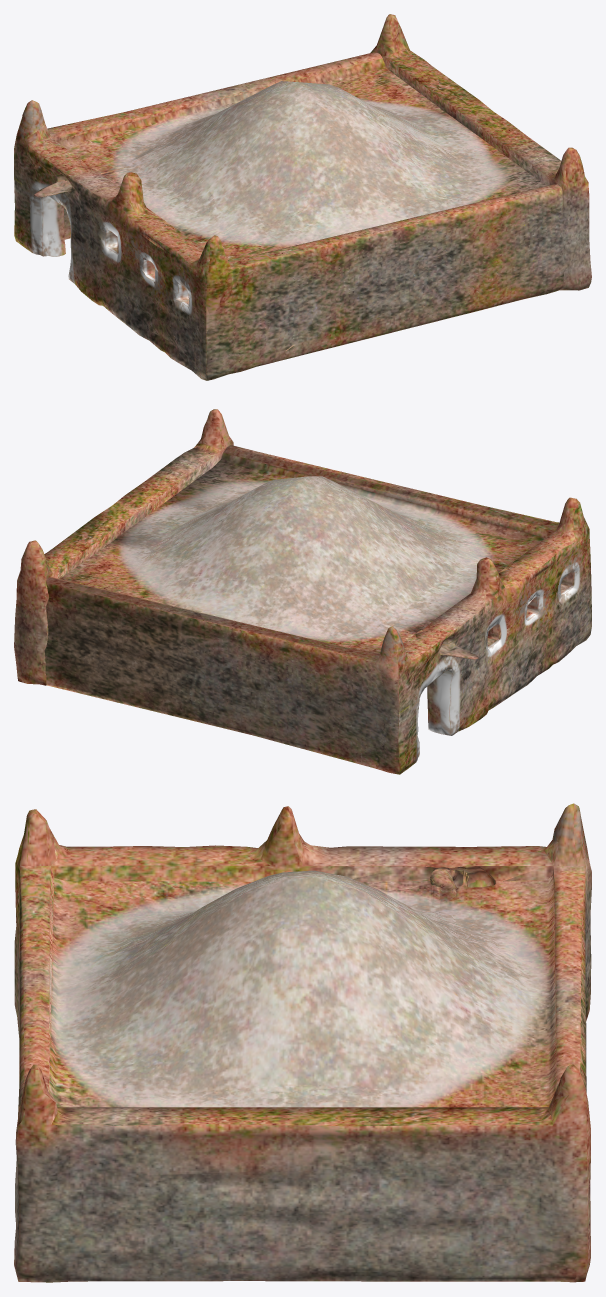
The model's file is Hause 01.obj.
3 renders of one model, top to bottom at view 1: azimuth 30°, elevation 25°; view 2: azimuth 150°, elevation 25°; view 3: azimuth 270°, elevation 25°, orthographic. The views are drawn at different scales.
Parts seen in each view (by area): view 1: Box002; view 2: Box002; view 3: Box002.
Boxes of the visible parts, left/top/right/bottom form: Box002: left=14, top=14, right=591, bottom=380; Box002: left=14, top=409, right=591, bottom=774; Box002: left=14, top=803, right=591, bottom=1282.
Bounding box in the file's own units: 63.6 × 26.34 × 51.44.
1 material, 1 textured.
